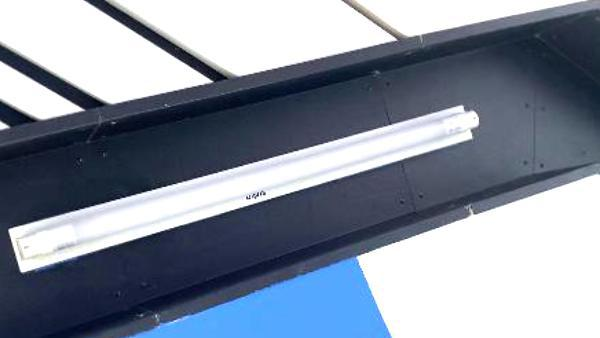light_off: (0, 83, 490, 288)
